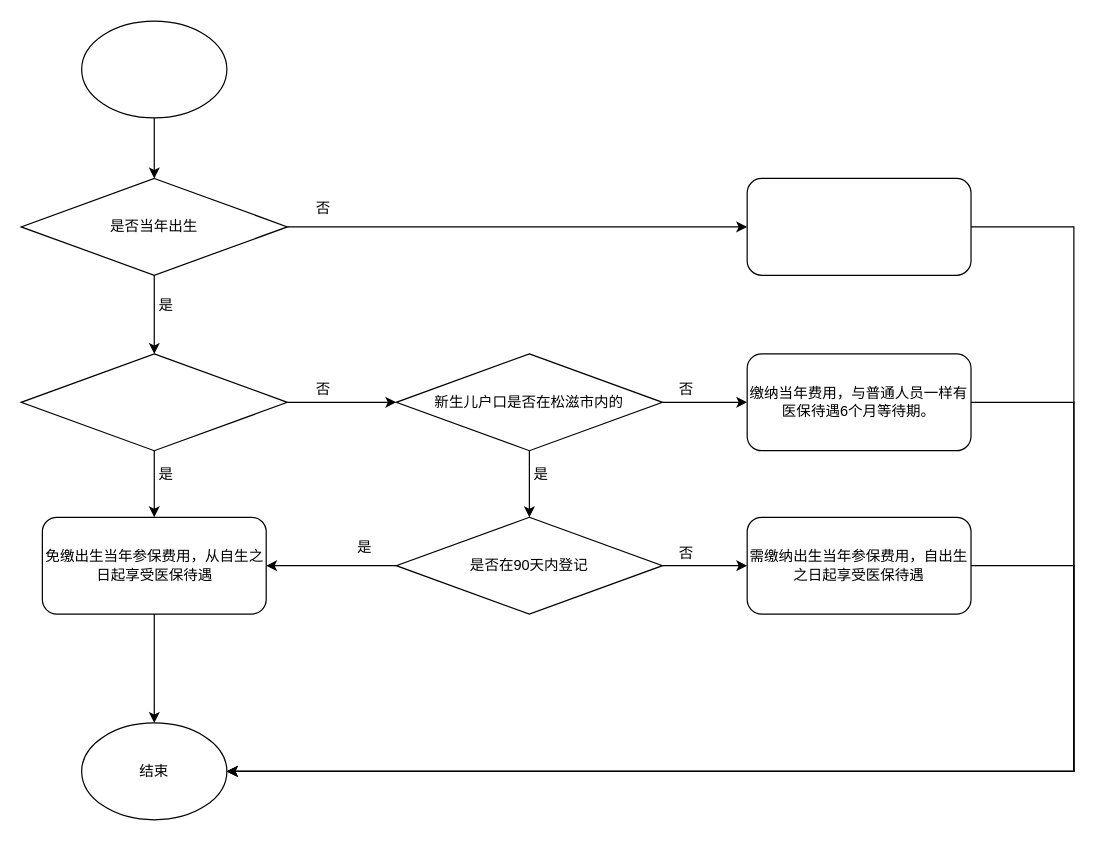
Some shapes in this 1105 by 841 pixel diagram are drawn without their labels. The shapes that lost their labels are listed below. From the top down, each one's centre as x and y in pixels, then its label:
pixel 153 69: 开始
pixel 858 226: 按普通人员参保登记并缴纳当年费用，有医保待遇6个月等待期。
pixel 153 402: 父母任意一方当年 是否在荆州市内参加医疗保险并 按规定缴费出生
